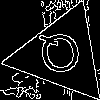Q: (36, 29, 85, 83)
